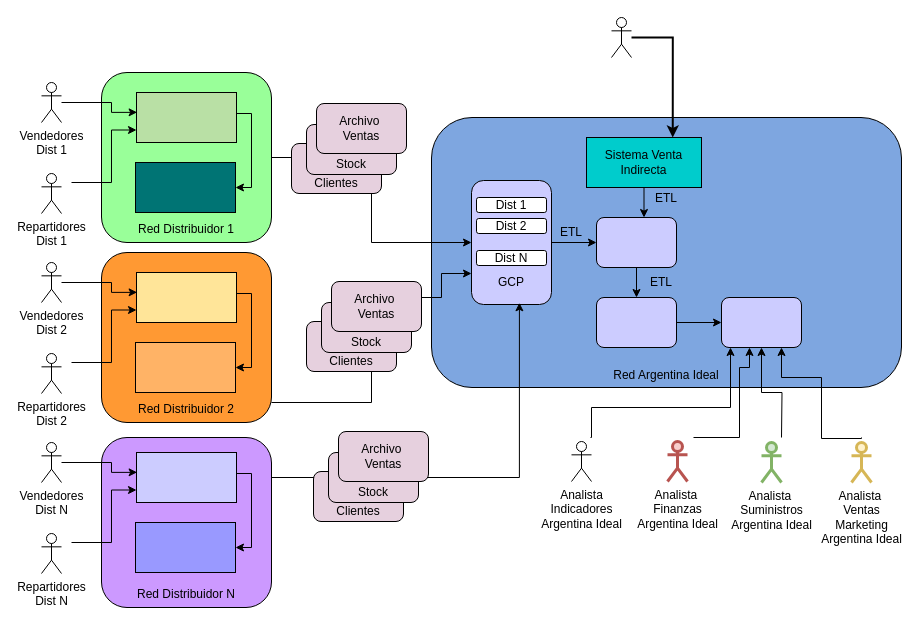
The diagram is 919 pixels wide and 627 high, and some of its shapes have lost their labels. The centre of each missing label's shape, as x and y in pixels:
Agente Argentina Ideal Distribuidor 1: (185,187)
Agente Argentina Ideal Distribuidor 2: (185,367)
Agente Argentina Ideal Distribuidor N: (185,547)
Dashboards: (761,322)
Data Marts: (636,322)
Data Warehouse: (636,242)
Sistema de ventas Distribuidor 1: (186,117)
Sistema de ventas Distribuidor 2: (186,297)
Sistema de ventas Distribuidor N: (186,477)
Vendedores Marketing Argentina Ideal: (621,37)
